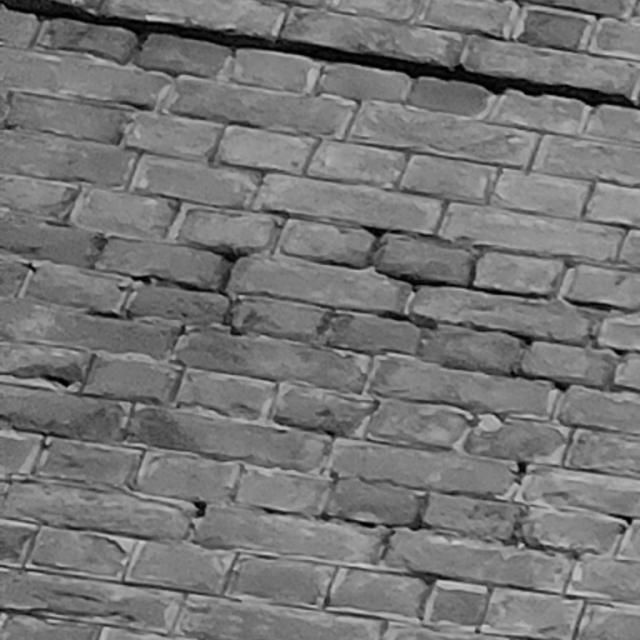crack: (1, 1, 639, 112)
